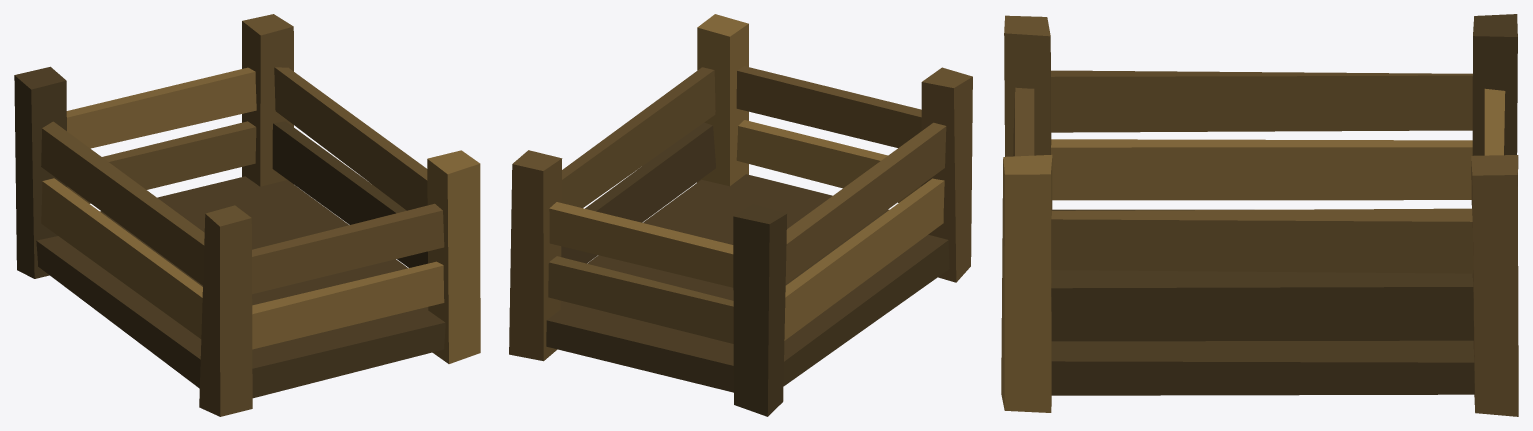
The model's file is empty crate.fbx.
3 views of the same model, side by side, from view 1: azimuth 30°, elevation 25°; view 2: azimuth 150°, elevation 25°; view 3: azimuth 270°, elevation 25° (orthographic). The views are drawn at different scales.
Visible parts, largest first — view 1: empty-crate_LOD0; view 2: empty-crate_LOD0; view 3: empty-crate_LOD0.
Boxes of the visible parts, x1,y1,x2,y2 form: empty-crate_LOD0: (14,14,480,416); empty-crate_LOD0: (509,14,972,416); empty-crate_LOD0: (1001,14,1518,416).
Size of what is drawn, in the model's own units: 1.6 by 1.13 by 2.17.
